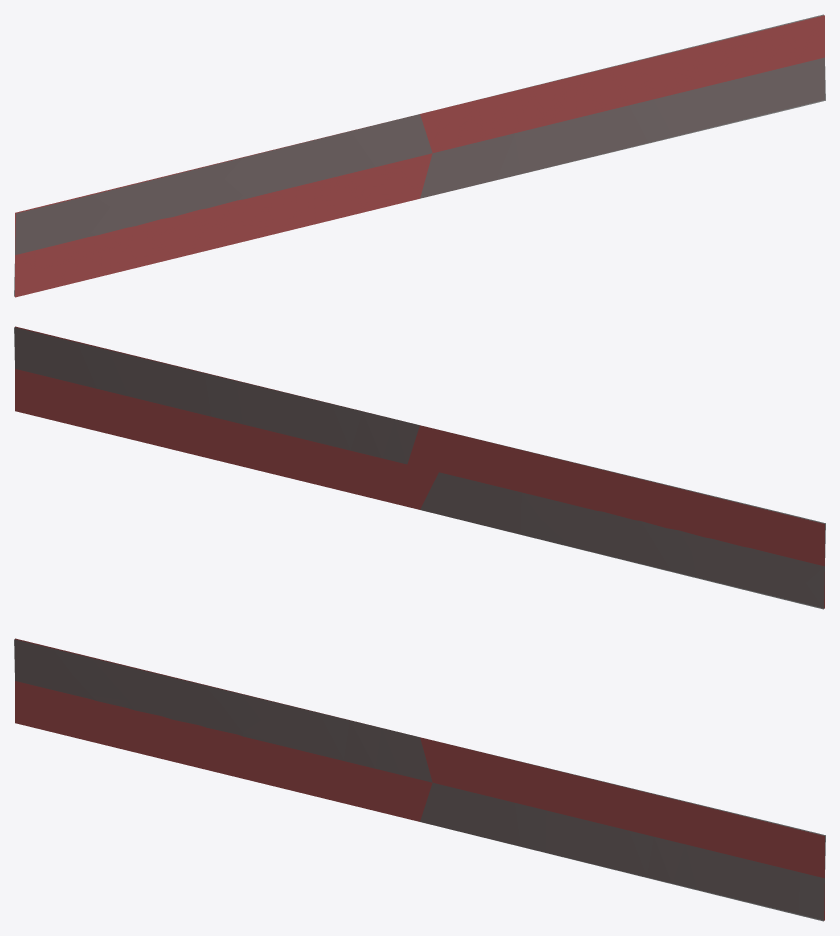
The model's file is warping-rectangle-10-100-97.glb.
The picture shows the model from 3 angles, top to bottom: view 1: azimuth 30°, elevation 25°; view 2: azimuth 150°, elevation 25°; view 3: azimuth 330°, elevation 25°; orthographic projection.
Parts seen in each view (by area): view 1: undeformed cross-section, cross-section with warping; view 2: undeformed cross-section, cross-section with warping; view 3: undeformed cross-section, cross-section with warping.
Boxes of the visible parts, x1,y1,x2,y2 form: undeformed cross-section: [15, 15, 824, 297]; cross-section with warping: [14, 14, 825, 296]; undeformed cross-section: [15, 326, 824, 608]; cross-section with warping: [14, 327, 825, 609]; undeformed cross-section: [15, 638, 824, 920]; cross-section with warping: [14, 639, 825, 921].
Bounding box in the file's own units: 0.1 × 0.01 × 0.000447.
